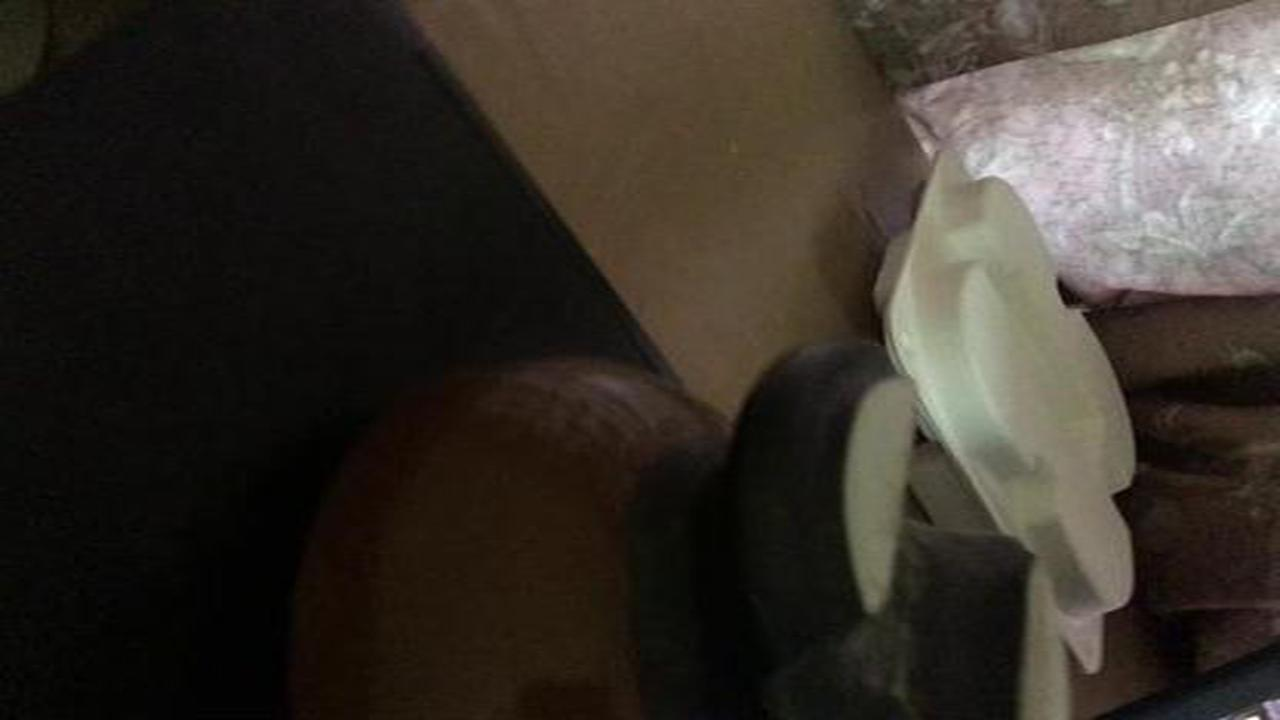insulator_pin: (246, 319, 1105, 720)
